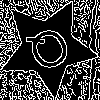Q: (23, 22, 79, 82)
